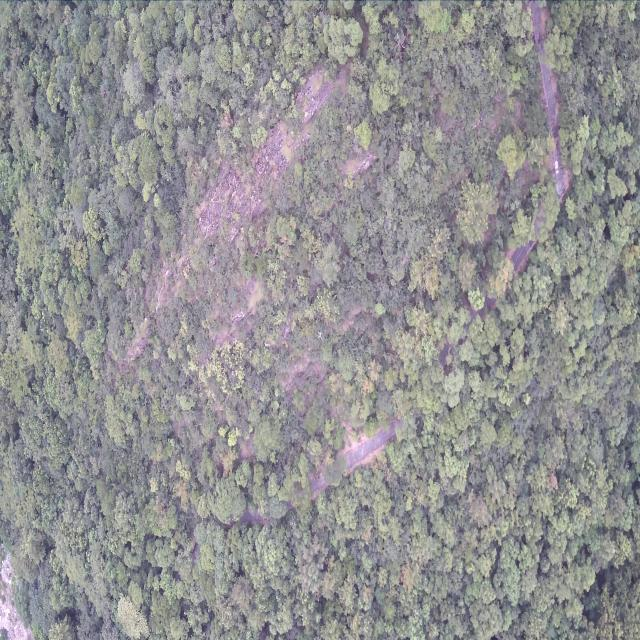drone: (317, 331, 323, 339)
